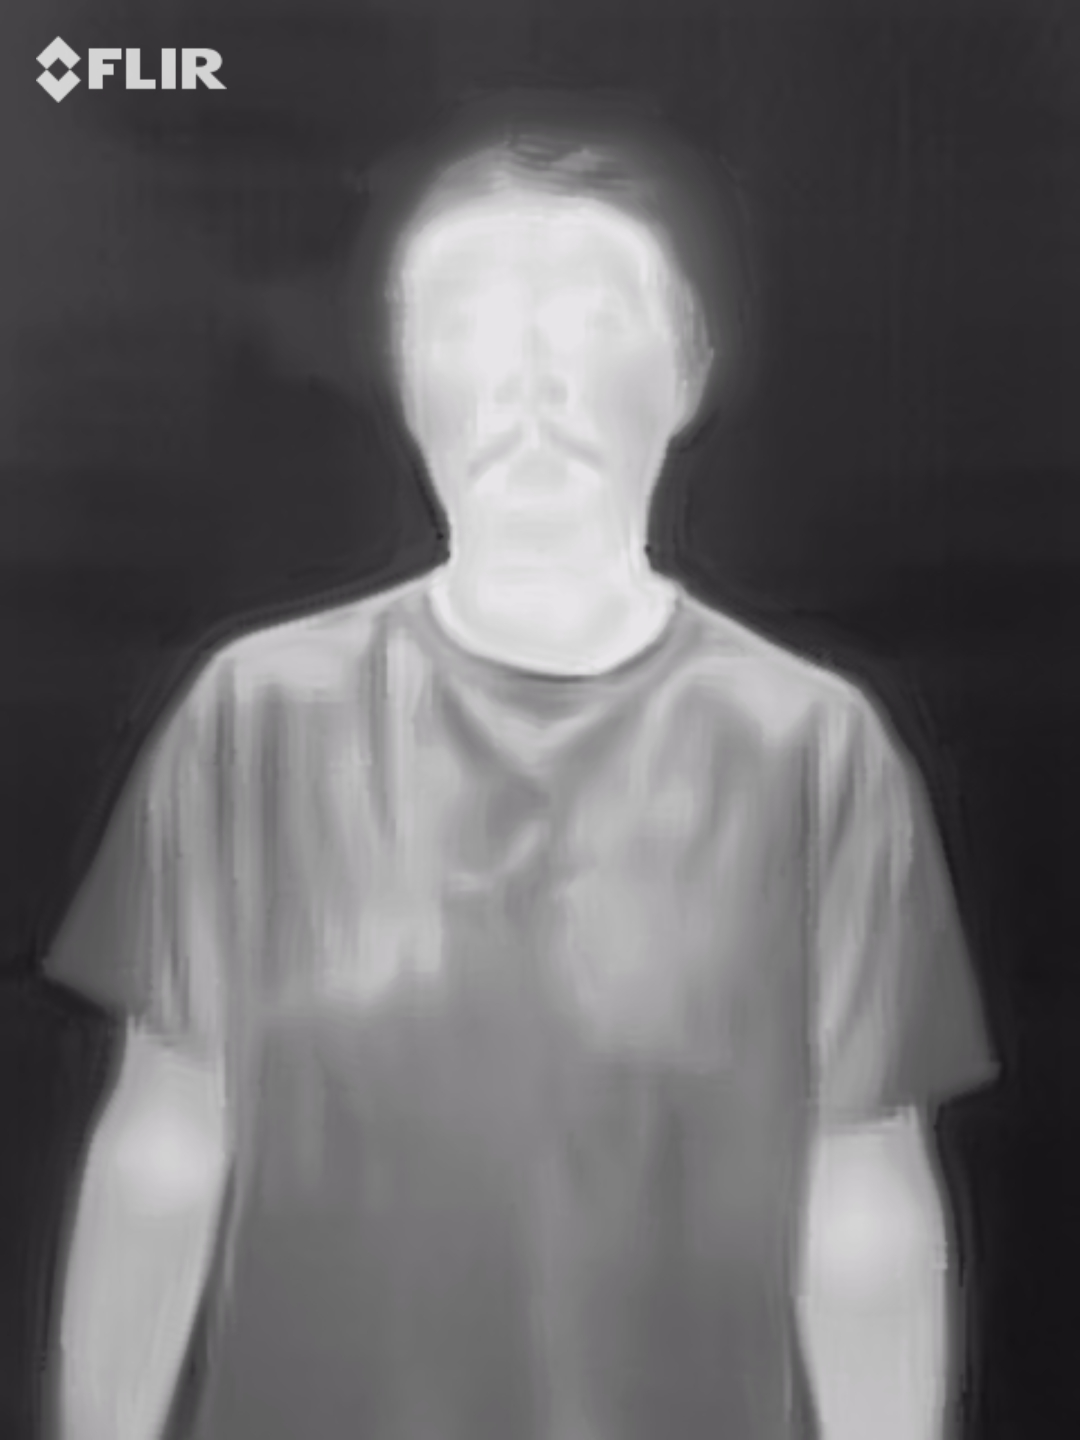head: (383, 134, 716, 551)
